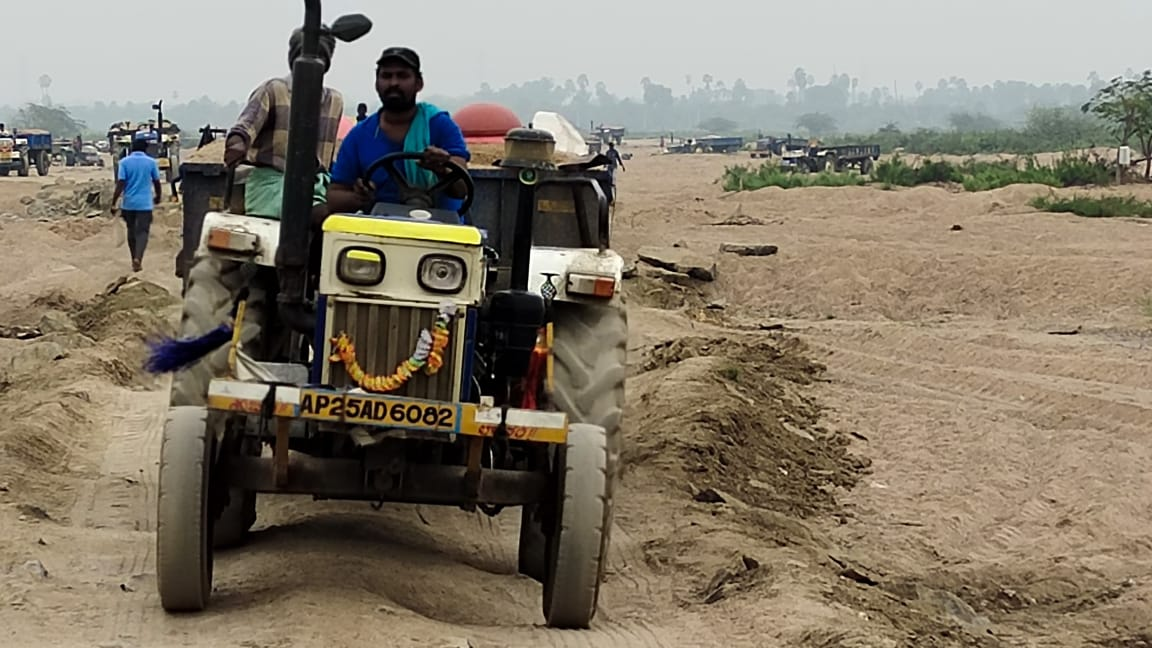license_plate: (299, 390, 461, 436)
